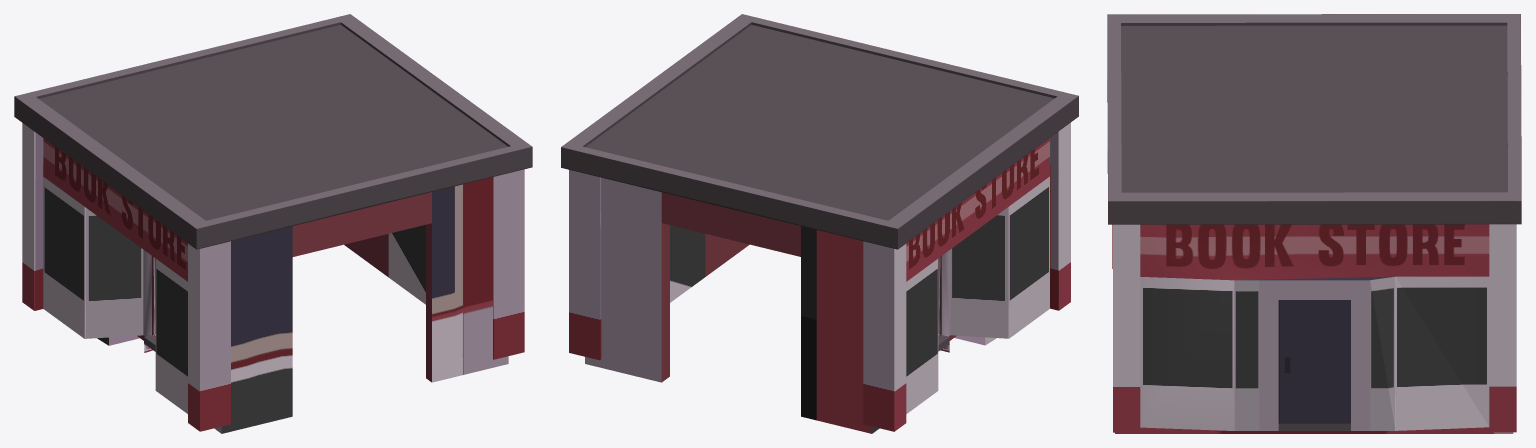
The model's file is carStore3.fbx.
3 views of the same model, side by side, from view 1: azimuth 30°, elevation 25°; view 2: azimuth 150°, elevation 25°; view 3: azimuth 270°, elevation 25° (orthographic). The views are drawn at different scales.
Visible parts, largest first — view 1: store_small_drug; view 2: store_small_drug; view 3: store_small_drug.
Part boxes in pixels (box(x1,y1,x2,y2)): store_small_drug: box(14, 14, 532, 433); store_small_drug: box(561, 14, 1078, 433); store_small_drug: box(1107, 14, 1521, 433).
Size of the model in its own units: 875 by 534 by 819.
